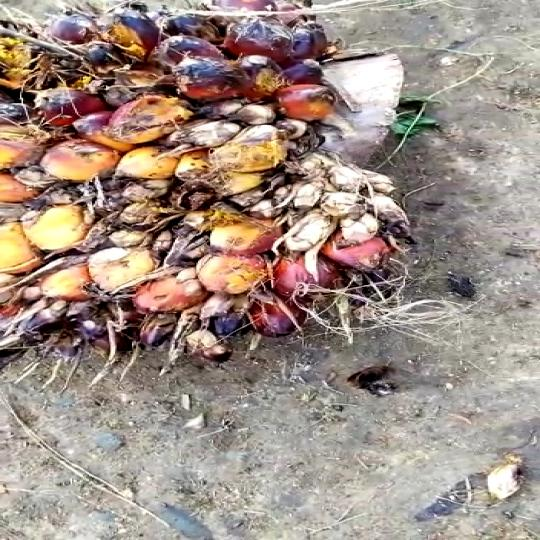terlalu masak: (0, 0, 454, 395)
